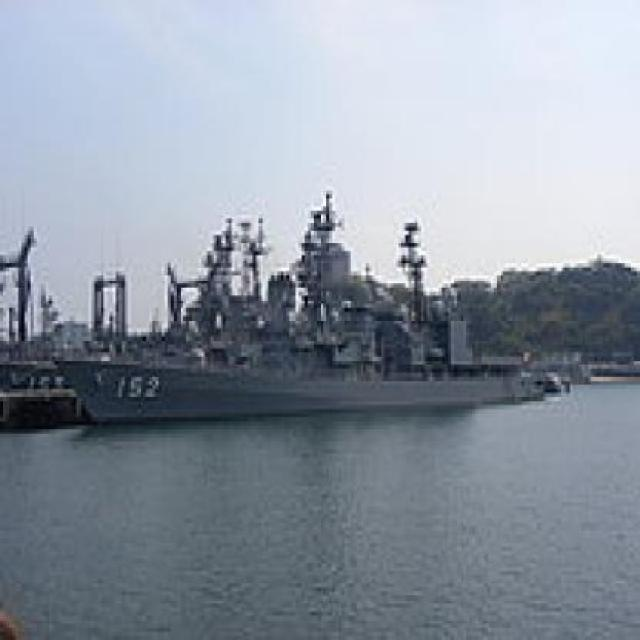warship2: (50, 163, 556, 443)
